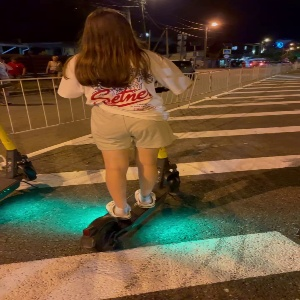human on a scooter: (55, 4, 192, 258)
